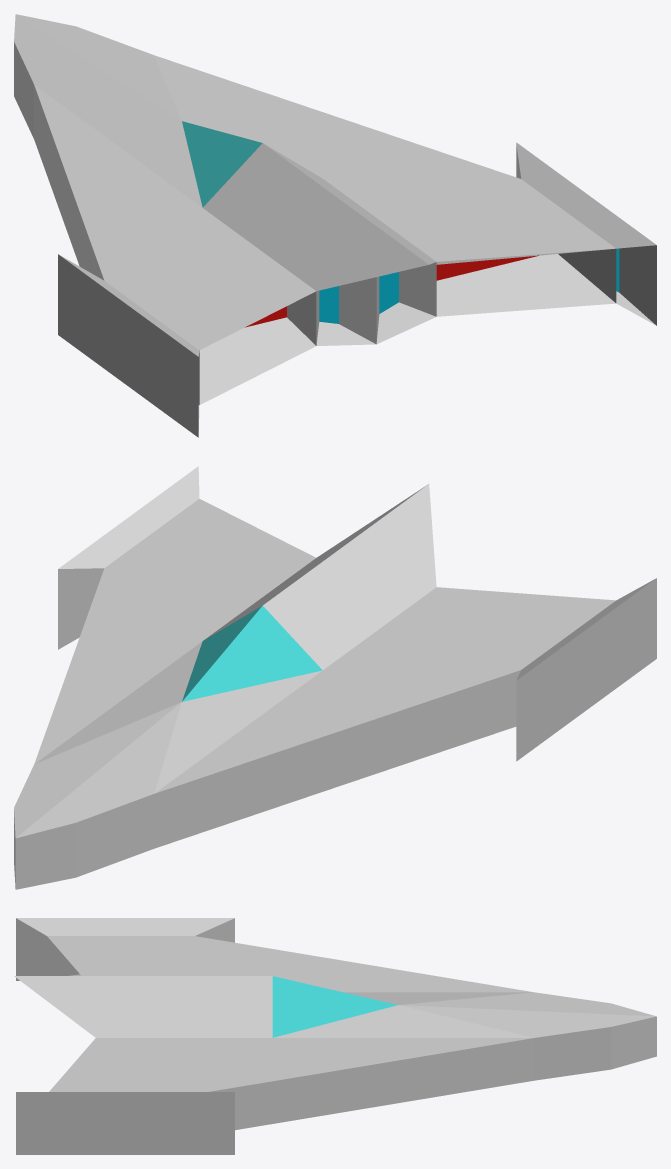
File: SpaceShip2.2.fbx
3 views of the same model, one above another, from view 1: azimuth 30°, elevation 25°; view 2: azimuth 150°, elevation 25°; view 3: azimuth 270°, elevation 25° (orthographic). The views are drawn at different scales.
Parts seen in each view (by area): view 1: Cube; view 2: Cube; view 3: Cube.
Part boxes in pixels (bbox=[...]): Cube: bbox=[14, 14, 656, 437]; Cube: bbox=[14, 466, 656, 889]; Cube: bbox=[14, 918, 656, 1154].
Size of the model in its own units: 465 by 115 by 727.
